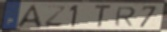1: (68, 5, 79, 28)
7: (139, 5, 159, 28)
A: (15, 3, 44, 28)
R: (113, 6, 137, 27)
T: (94, 4, 113, 29)
Z: (44, 5, 68, 28)
